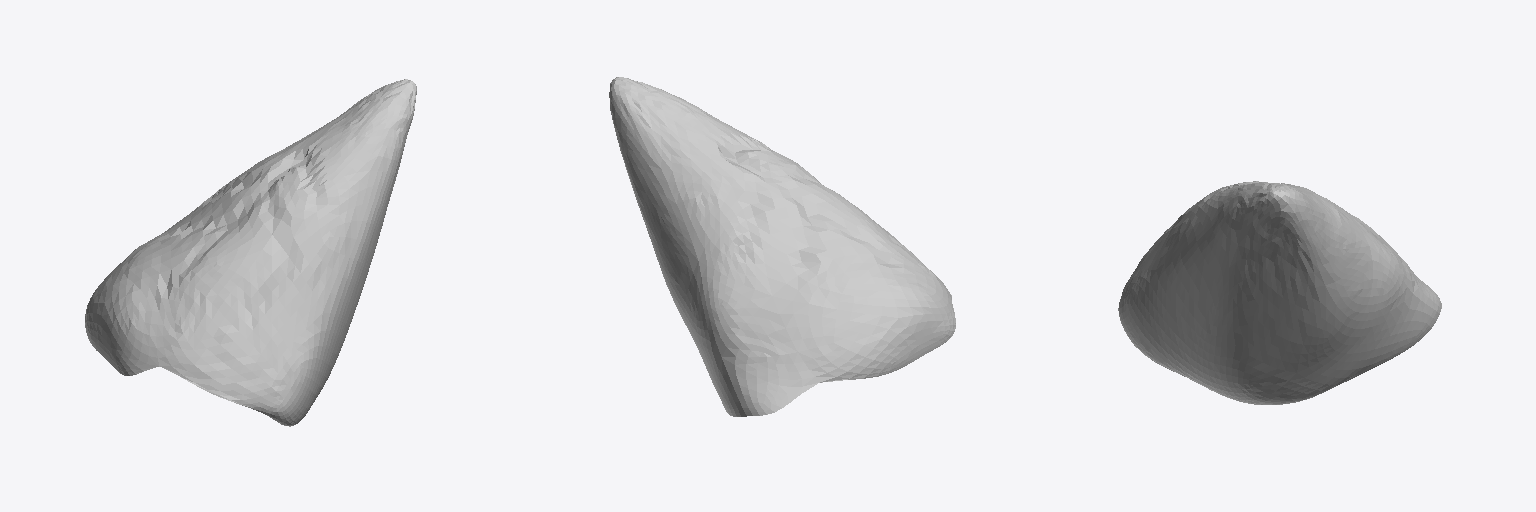
Rendered from Rock_LowPoly.OBJ.
The picture shows the model from 3 angles: view 1: azimuth 30°, elevation 25°; view 2: azimuth 150°, elevation 25°; view 3: azimuth 270°, elevation 25°; orthographic projection.
Parts seen in each view (by area): view 1: Group37552, Group65535, Group41243; view 2: Group37552, Group41243, Group65535; view 3: Group37552, Group65535, Group41243.
Part boxes in pixels (x1,y1,x2,y2): Group37552: (85, 79, 413, 426); Group65535: (166, 83, 416, 409); Group41243: (165, 106, 369, 367); Group37552: (609, 77, 955, 416); Group41243: (656, 111, 843, 415); Group65535: (609, 80, 898, 295); Group37552: (1118, 181, 1439, 404); Group65535: (1128, 187, 1324, 376); Group41243: (1135, 184, 1441, 313).
Bounding box in the file's own units: 3.58 × 3.04 × 3.19.